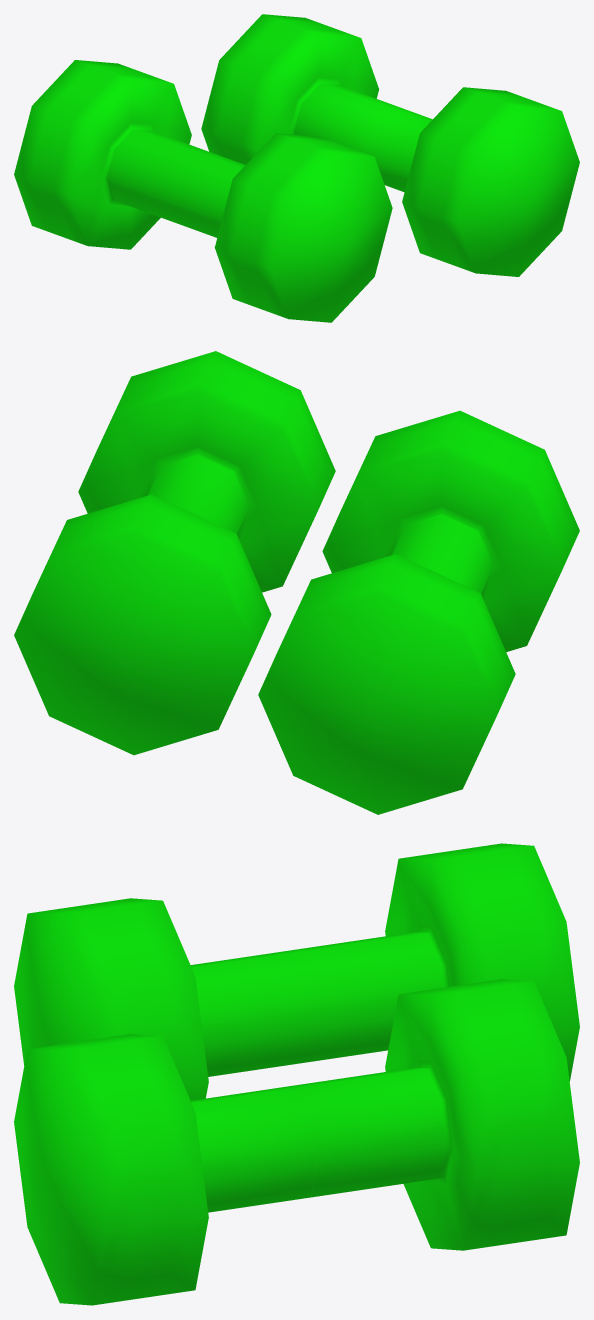
Rendered from dumbbell.glb.
3 renders of one model, top to bottom at view 1: azimuth 30°, elevation 25°; view 2: azimuth 150°, elevation 25°; view 3: azimuth 270°, elevation 25°, orthographic. The views are drawn at different scales.
Visible parts, largest first — view 1: room3_dumbbell_left, room3_dumbbell_right; view 2: room3_dumbbell_right, room3_dumbbell_left; view 3: room3_dumbbell_right, room3_dumbbell_left.
Part boxes in pixels (box(x1,y1,x2,y2)): room3_dumbbell_left: box(14, 60, 392, 322); room3_dumbbell_right: box(201, 14, 579, 276); room3_dumbbell_right: box(14, 351, 335, 755); room3_dumbbell_left: box(258, 410, 579, 814); room3_dumbbell_right: box(14, 979, 579, 1305); room3_dumbbell_left: box(14, 843, 579, 1100).
Size of the model in its own units: 0.9655 by 0.358 by 0.7296.
1 material, 1 textured.
